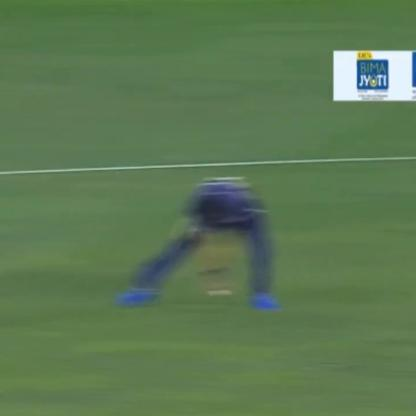ball: (217, 285, 239, 300), (201, 286, 220, 301)
